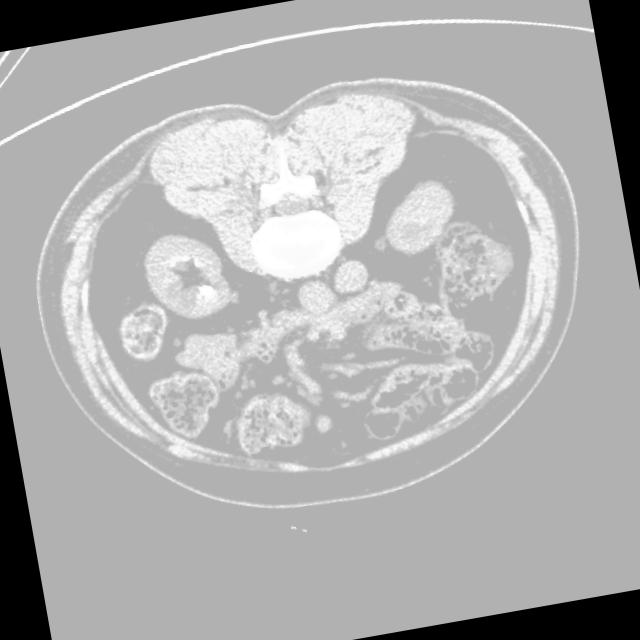STONE: (82, 140, 512, 423)
